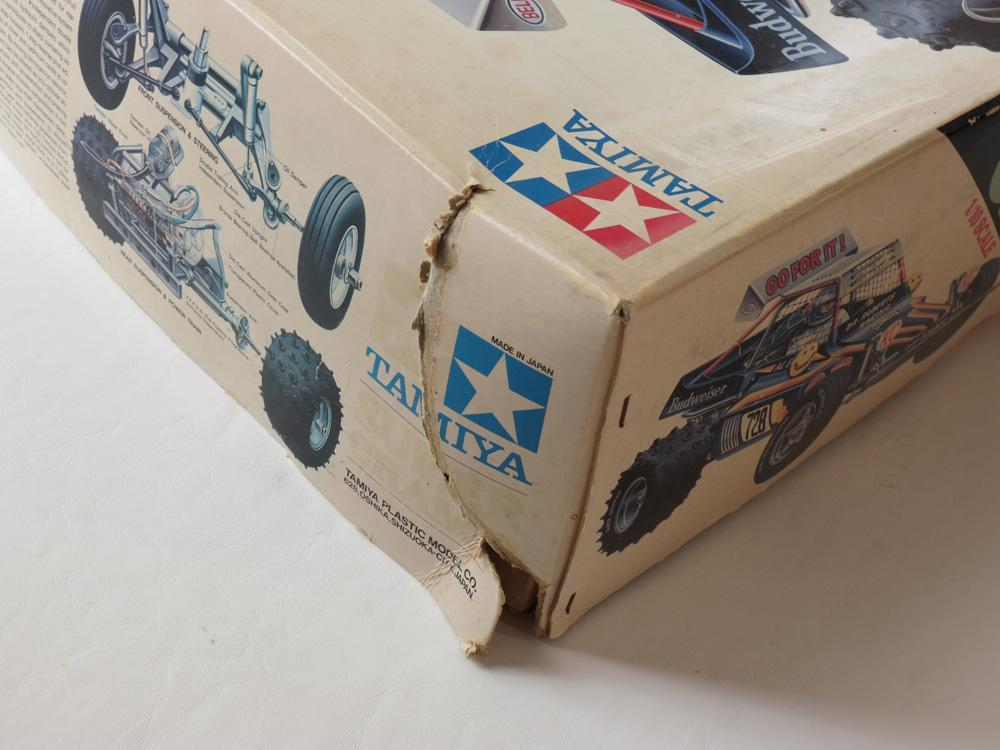damaged package: (404, 170, 563, 656)
undamaged: (0, 0, 998, 688)
